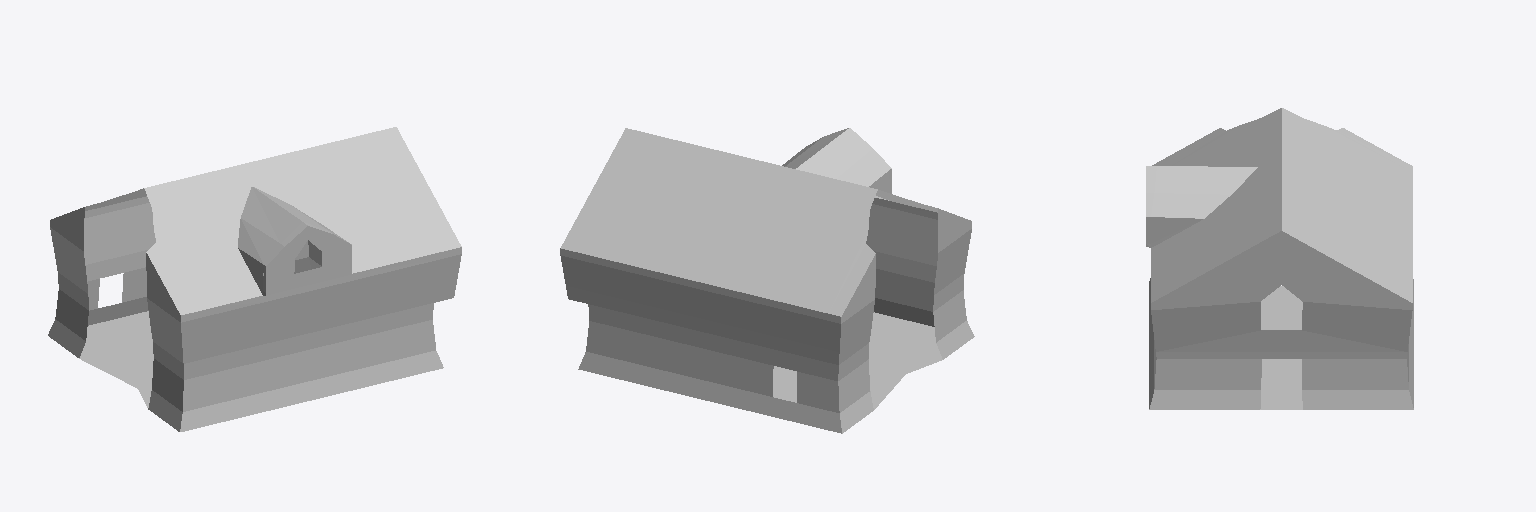
Rendered from insidewhole.obj.
The picture shows the model from 3 angles: view 1: azimuth 30°, elevation 25°; view 2: azimuth 150°, elevation 25°; view 3: azimuth 270°, elevation 25°; orthographic projection.
Parts seen in each view (by area): view 1: houseinsidewhole; view 2: houseinsidewhole; view 3: houseinsidewhole.
Part boxes in pixels (x1,y1,x2,y2): houseinsidewhole: (48,127,461,431); houseinsidewhole: (560,128,974,433); houseinsidewhole: (1146,108,1413,409).
Bounding box in the file's own units: 18.02 × 11.48 × 14.81.